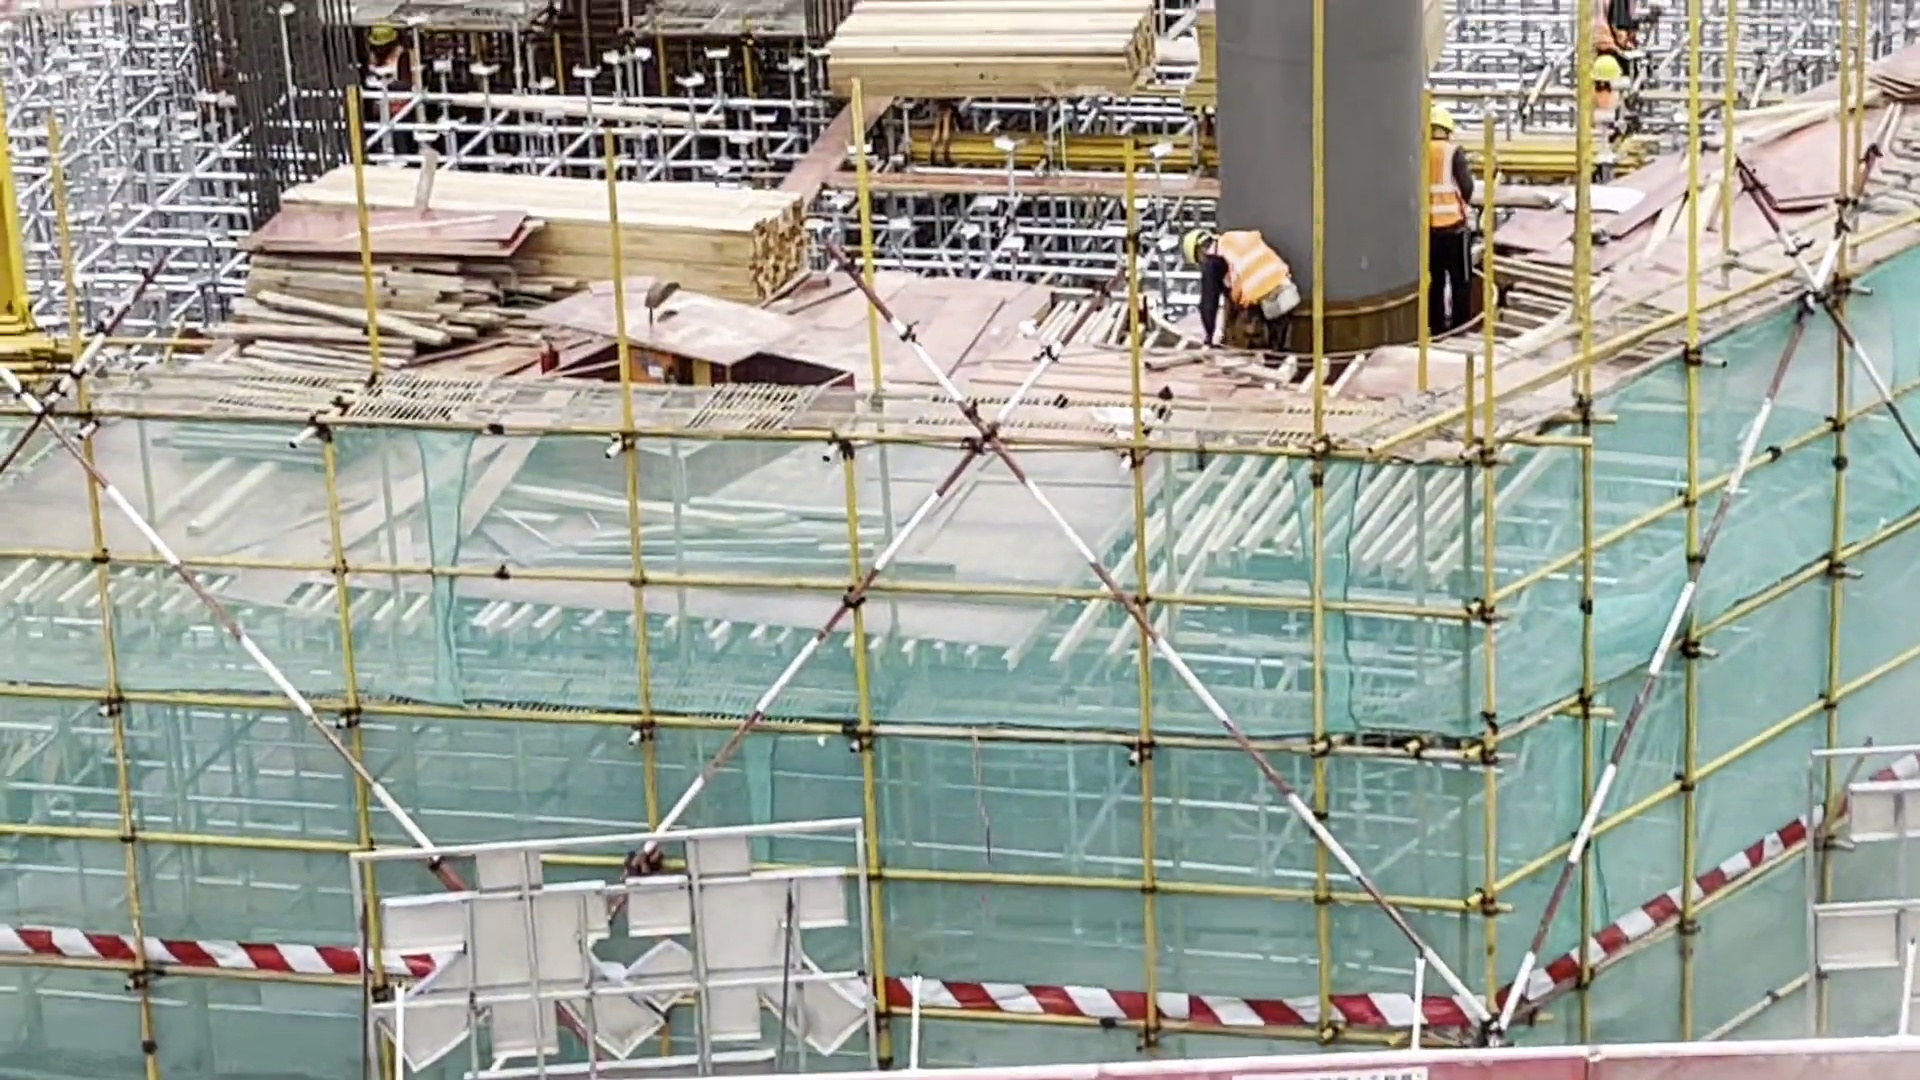helmet: (1179, 225, 1221, 266), (1590, 53, 1628, 85), (1426, 105, 1456, 134)
person: (1177, 194, 1303, 354), (1425, 106, 1475, 332)
vest: (1219, 227, 1289, 326), (1424, 136, 1478, 241)
